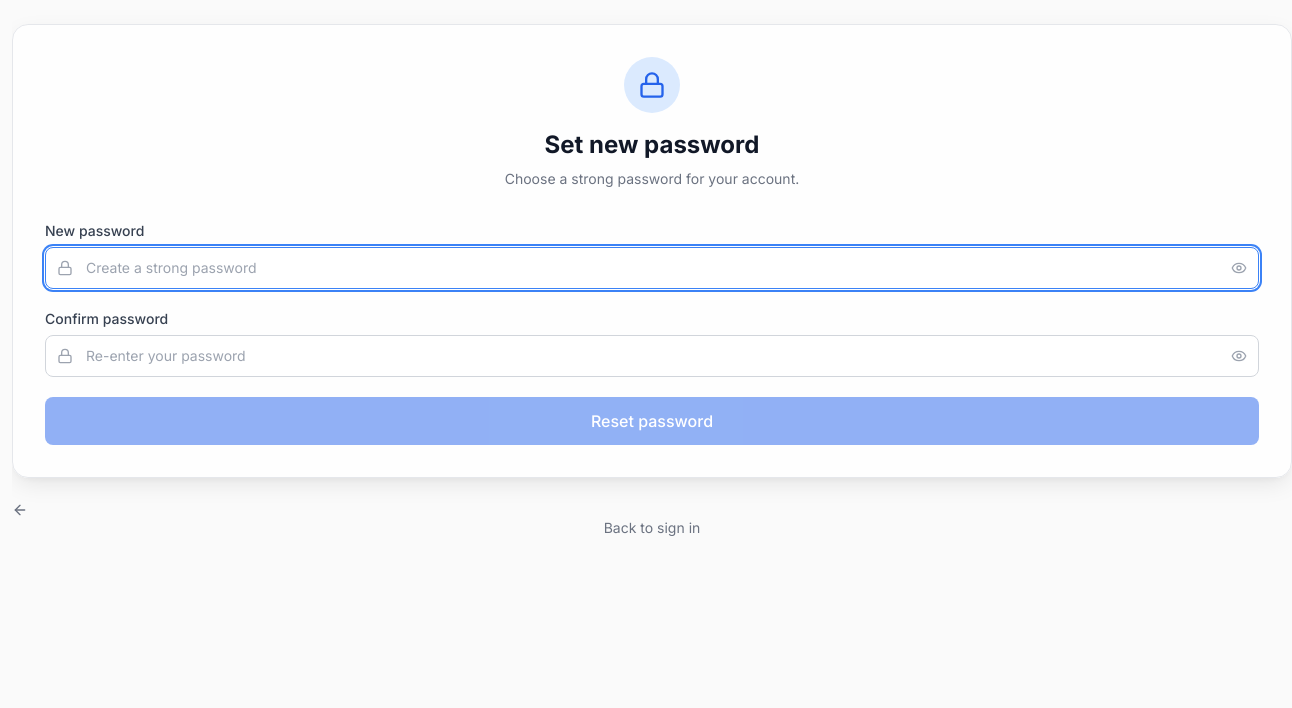
Test case: ResetPasswordPage › shows error when resetPassword throws
Type "StrongPass1!" into the password field labelled "New password" at (652, 268), box [45,247,1259,289]
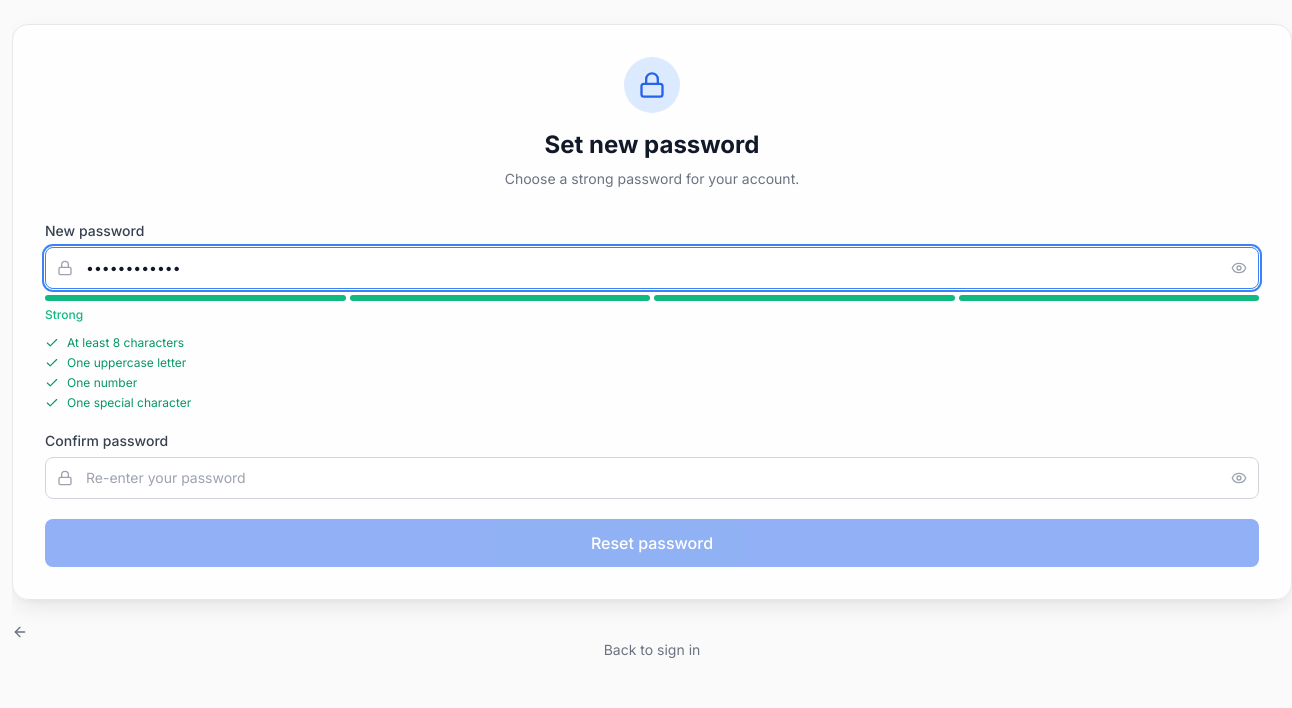
Type "StrongPass1!" into the password field labelled "Confirm password" at (652, 478), box [45,457,1259,499]
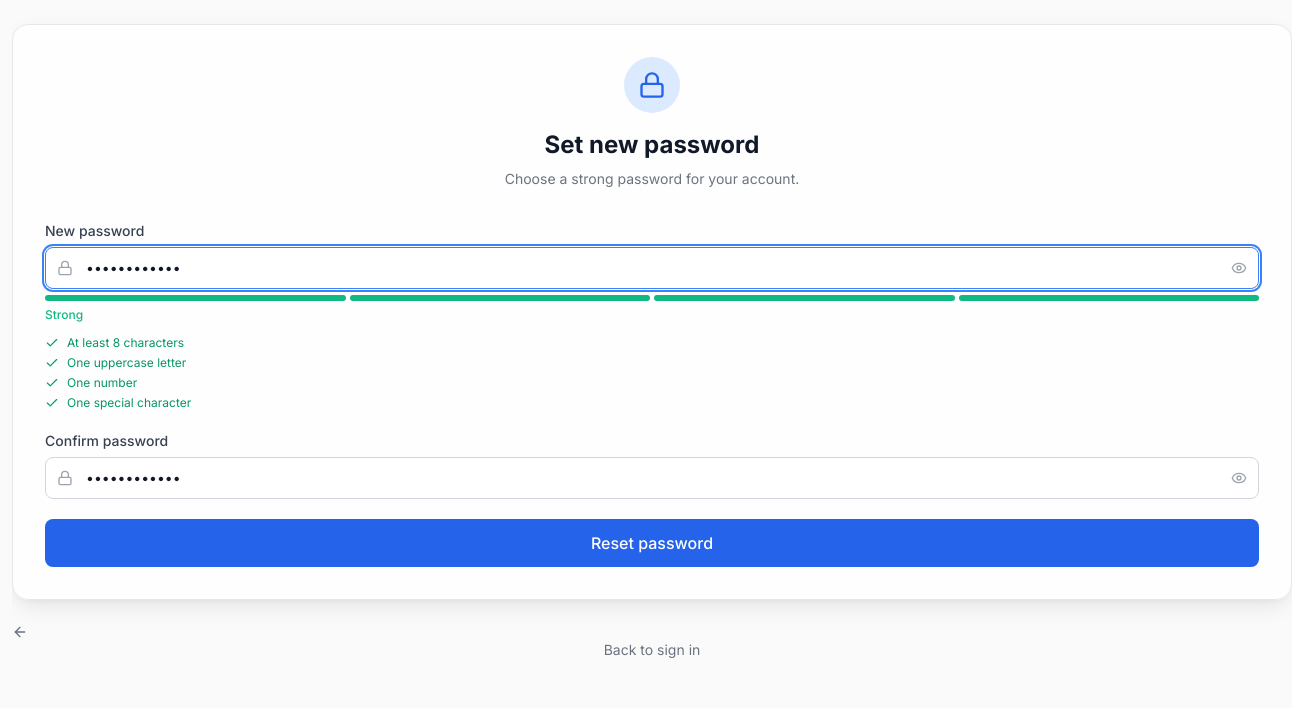
Click the button "Reset password" at (652, 543), box [45,519,1259,567]
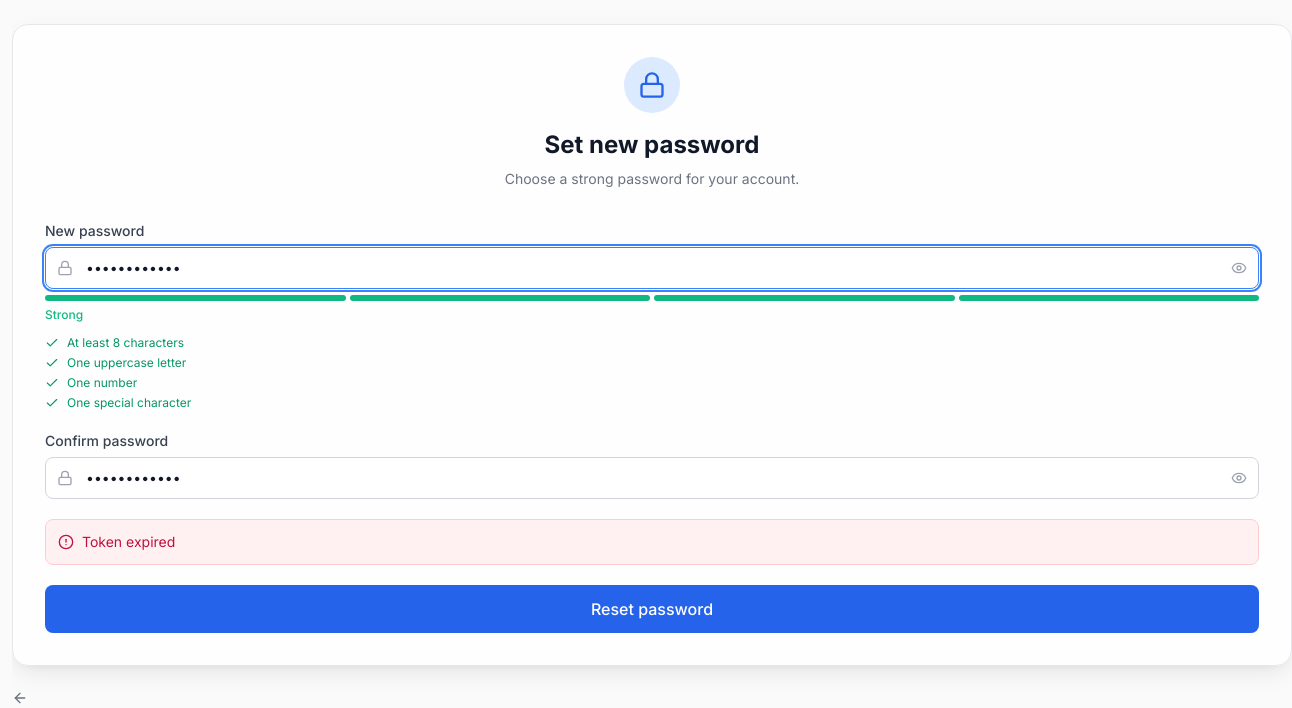
Check: the text "Token expired" is shown, box [45,519,1259,565]
